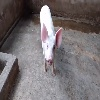heo: (39, 23, 68, 70)
